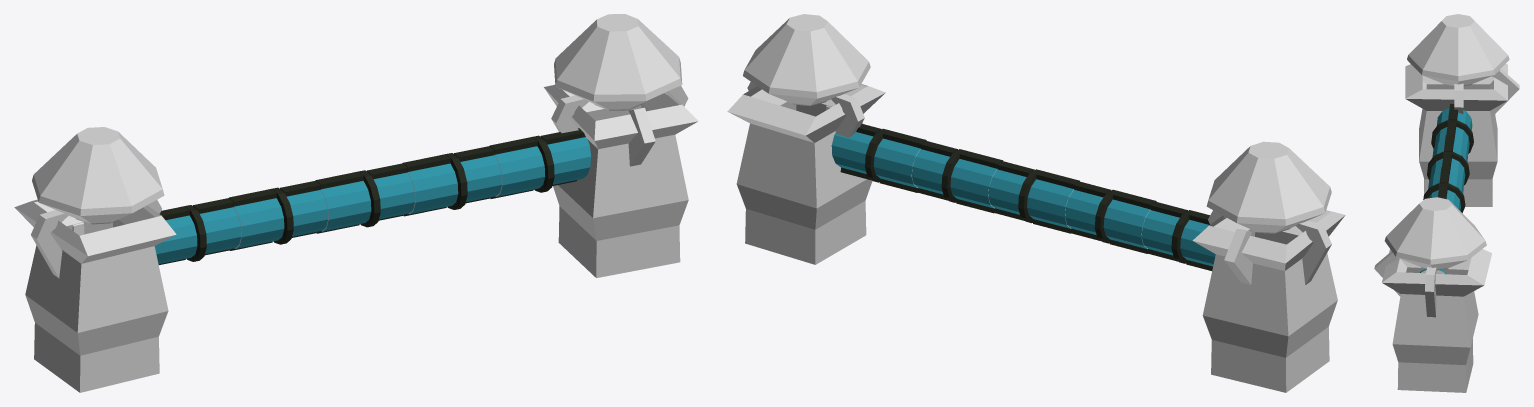
Rendered from CityPack2.glb.
3 views of the same model, side by side, from view 1: azimuth 30°, elevation 25°; view 2: azimuth 150°, elevation 25°; view 3: azimuth 270°, elevation 25° (orthographic). The views are drawn at different scales.
Parts seen in each view (by area): view 1: Torus.003; view 2: Torus.003; view 3: Torus.003.
Boxes of the visible parts, x1,y1,x2,y2 form: Torus.003: [14, 14, 698, 392]; Torus.003: [727, 14, 1345, 392]; Torus.003: [1374, 14, 1519, 392].
Bounding box in the file's own units: 127 × 44.49 × 33.86.
2 materials, 1 textured.
